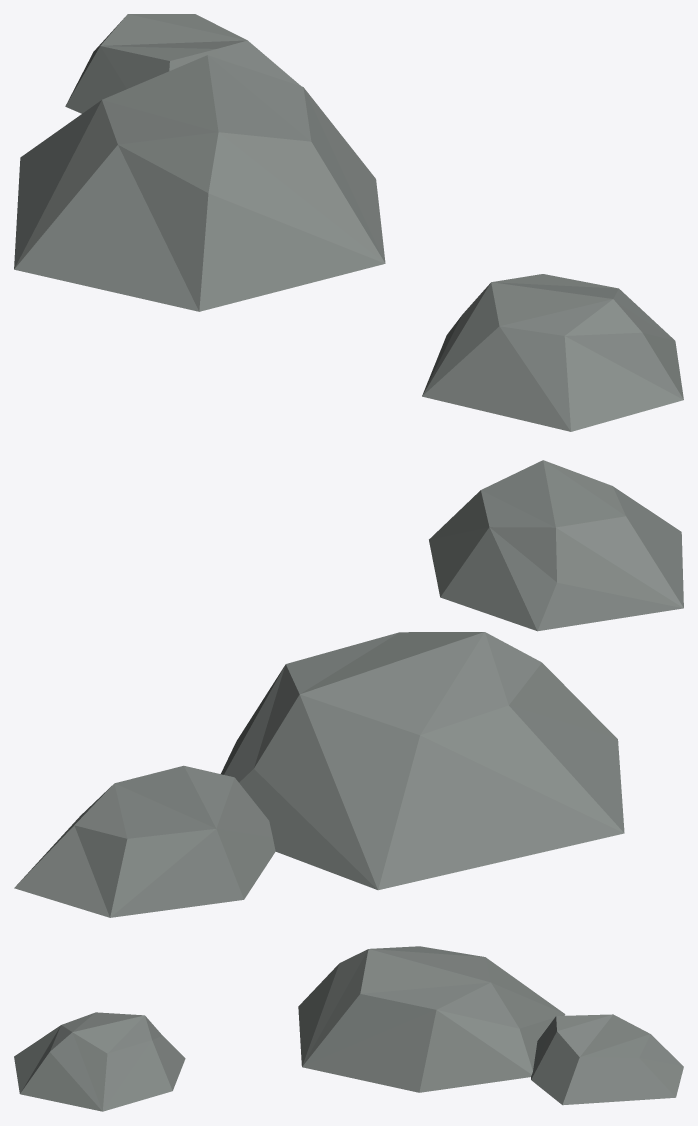
The model's file is SM_Generic_Small_Rocks_04.fbx.
3 views of the same model, one above another, from view 1: azimuth 30°, elevation 25°; view 2: azimuth 150°, elevation 25°; view 3: azimuth 270°, elevation 25° (orthographic). The views are drawn at different scales.
Parts seen in each view (by area): view 1: SM_Generic_Small_Rocks_04; view 2: SM_Generic_Small_Rocks_04; view 3: SM_Generic_Small_Rocks_04.
Boxes of the visible parts, x1,y1,x2,y2 form: SM_Generic_Small_Rocks_04: (14, 14, 683, 431); SM_Generic_Small_Rocks_04: (14, 460, 683, 917); SM_Generic_Small_Rocks_04: (14, 946, 683, 1111).
Size of the model in its own units: 35.69 by 9.91 by 74.34.
